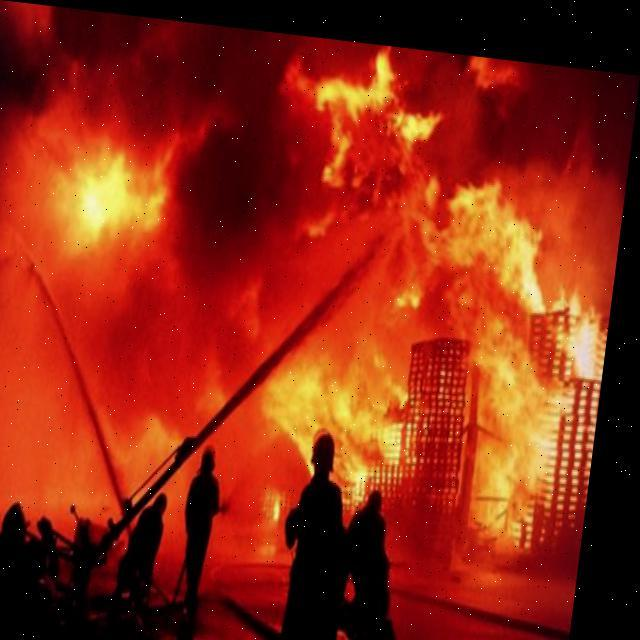Fire: (270, 55, 636, 528), (30, 100, 206, 279)
